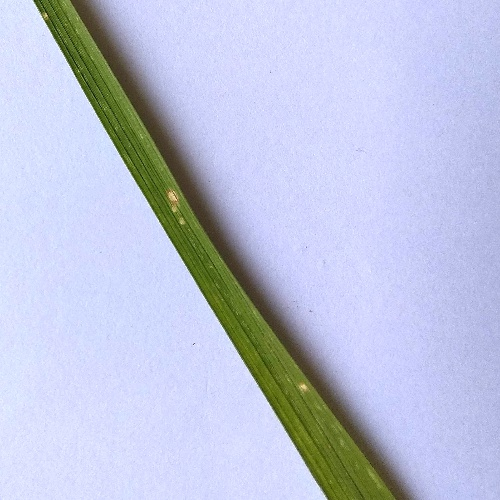Busuk Leher: (159, 181, 185, 206), (295, 378, 318, 399), (36, 9, 54, 25)
